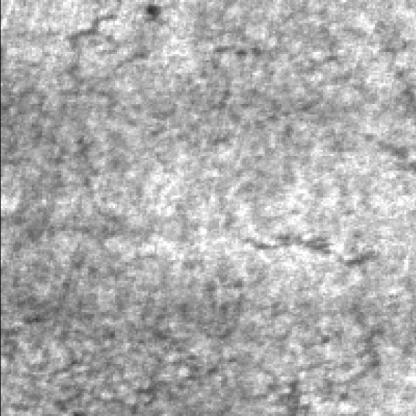crazing: (245, 232, 390, 416), (56, 2, 152, 123)
